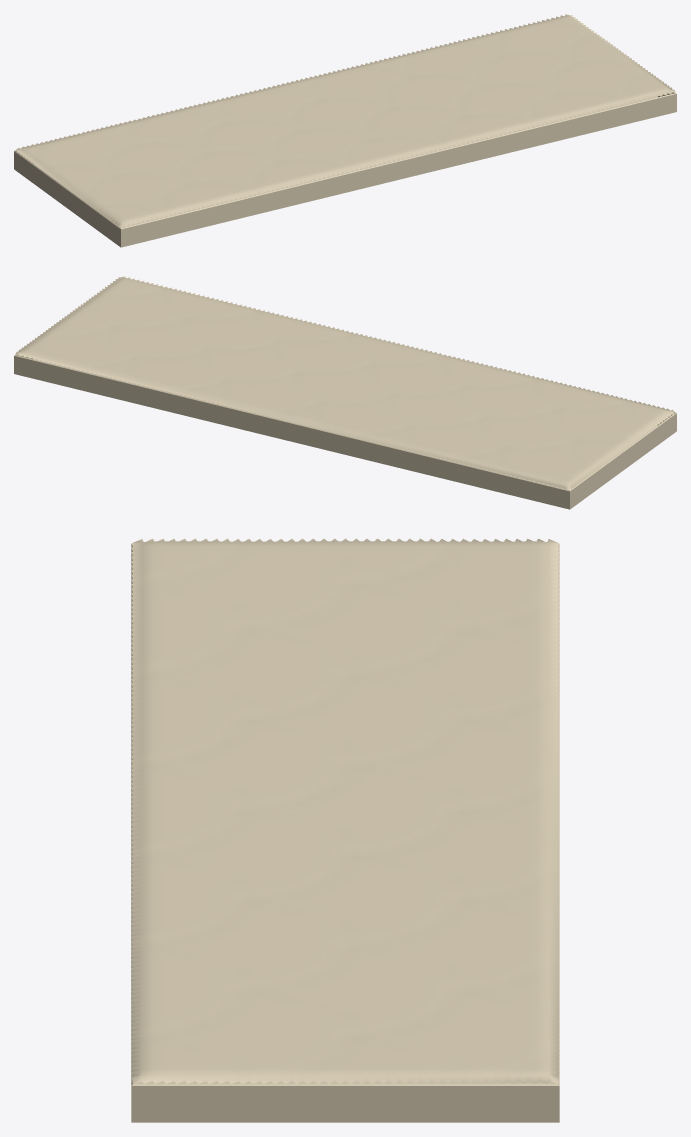
File: mahsulot.glb
3 views of the same model, one above another, from view 1: azimuth 30°, elevation 25°; view 2: azimuth 150°, elevation 25°; view 3: azimuth 270°, elevation 25° (orthographic). The views are drawn at different scales.
Parts seen in each view (by area): view 1: mahsulot; view 2: mahsulot; view 3: mahsulot.
Boxes of the visible parts, x1,y1,x2,y2 form: mahsulot: (14,14,676,247); mahsulot: (14,276,676,509); mahsulot: (131,538,559,1122).
Bounding box in the file's own units: 1.2 × 0.045 × 0.4.
